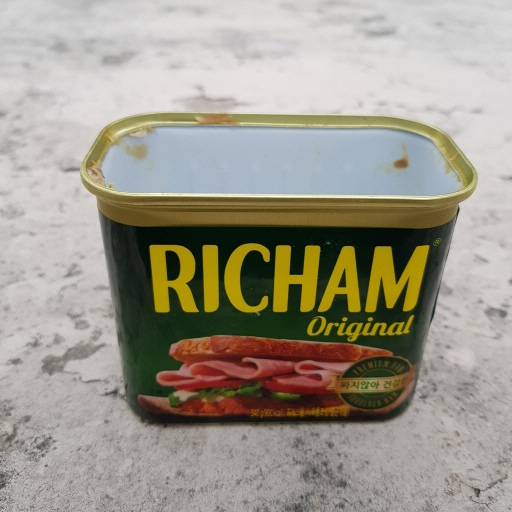Metal_2: (78, 103, 480, 425)
